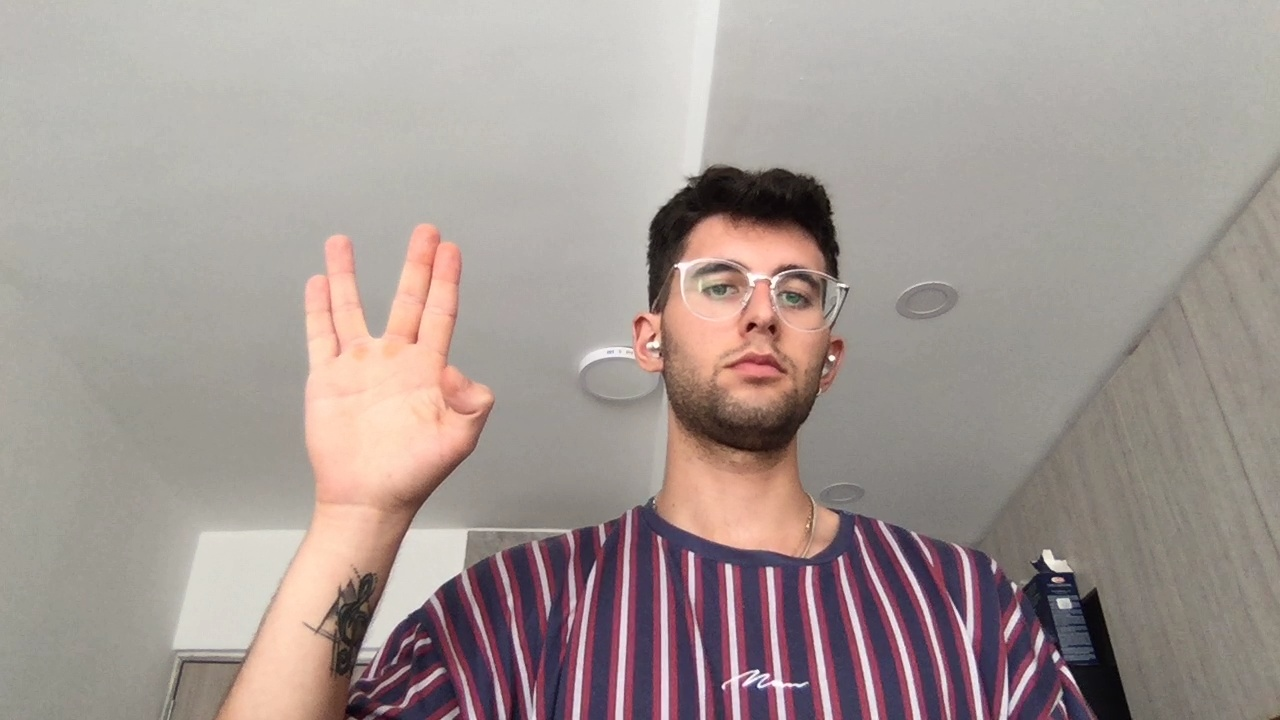LiveLong: (298, 224, 496, 507)
